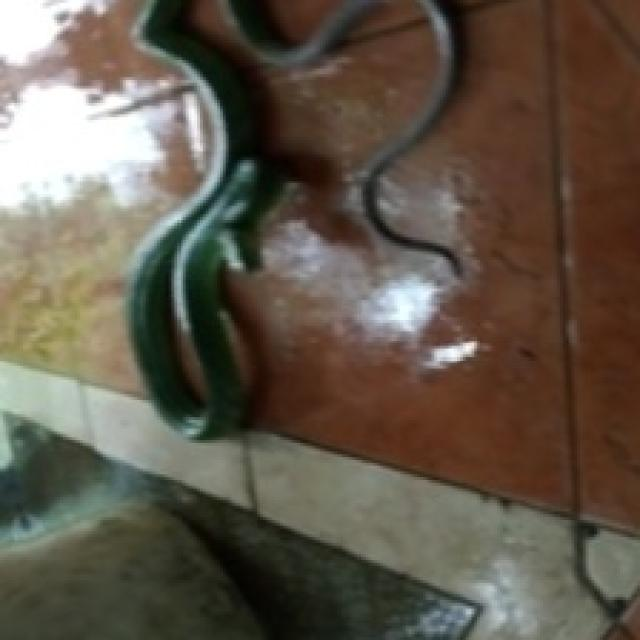red-tailed green ratsnake: (129, 0, 454, 437)
